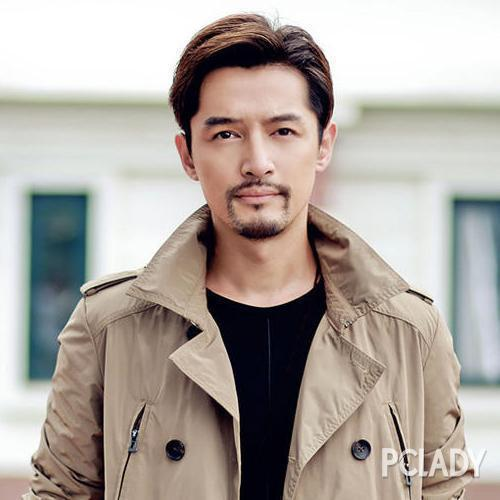people: (123, 21, 463, 487)
